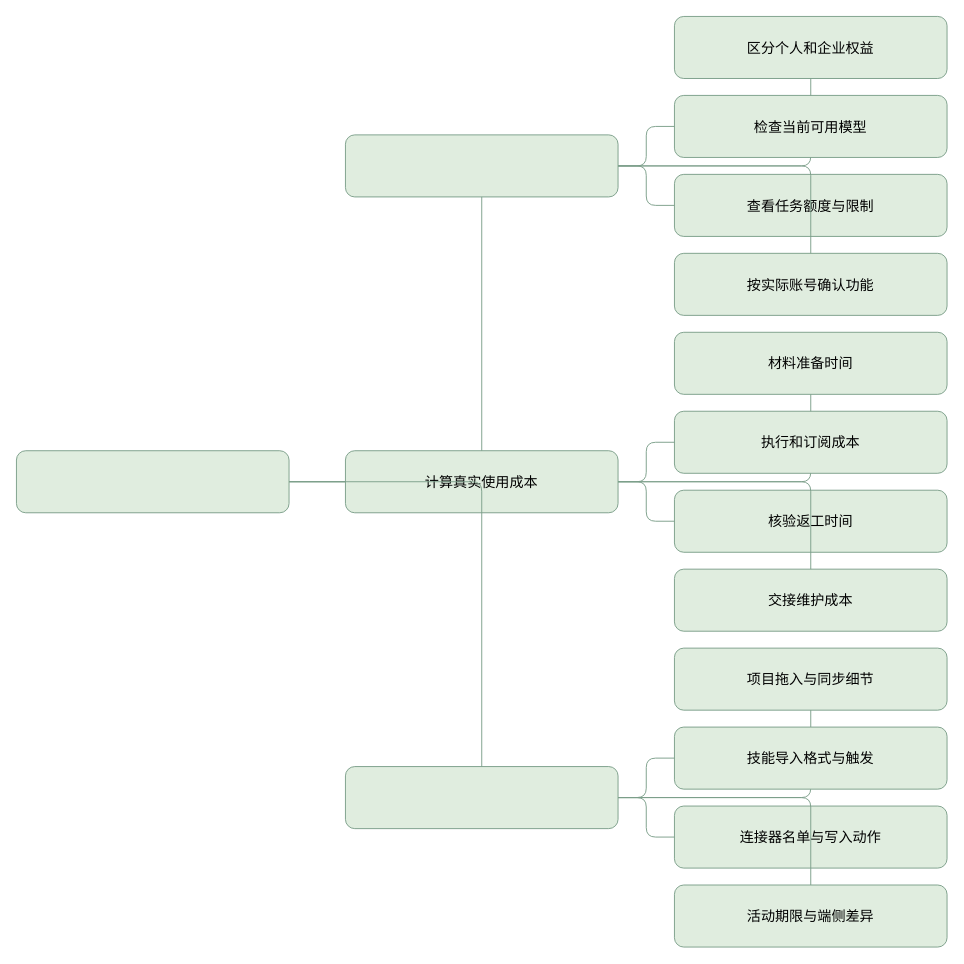
This 964x964 diagram has some shape labels left out. Here are the shapes that lost their labels. From the top down, the centre of each, then its label:
At point 481,165: "核对当前权益".
At point 152,481: "16 版本、成本与更新".
At point 481,797: "更新与待核事项".
